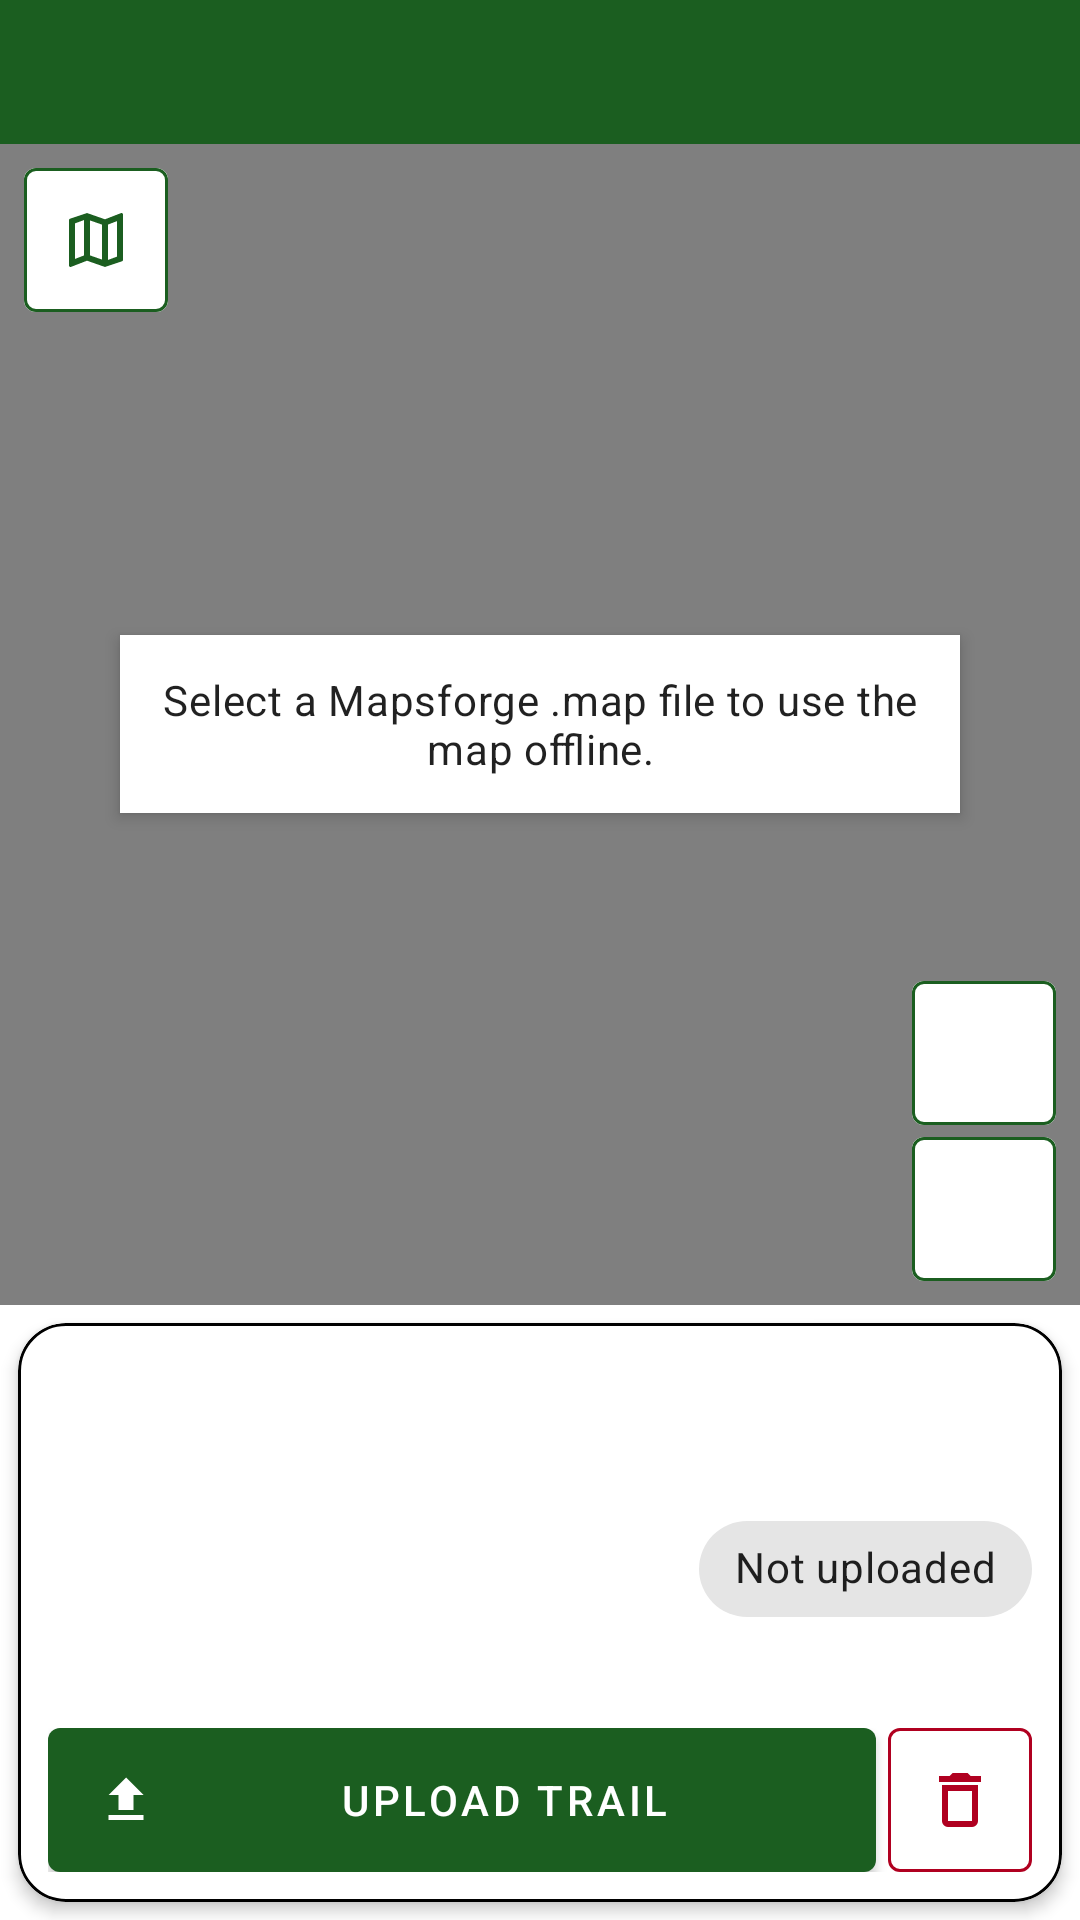

Icon click points for this 1080 x 1920 phone screenshot, format [x,y]:
Delete: [960,1800]
